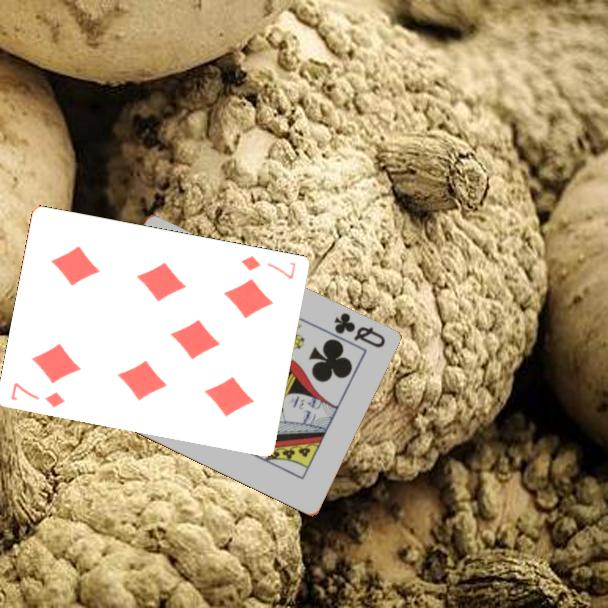c12: (330, 309, 388, 351)
d07: (8, 379, 68, 410), (238, 252, 299, 282)
